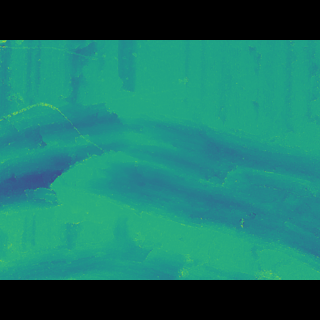Loch: (0, 104, 320, 250)
